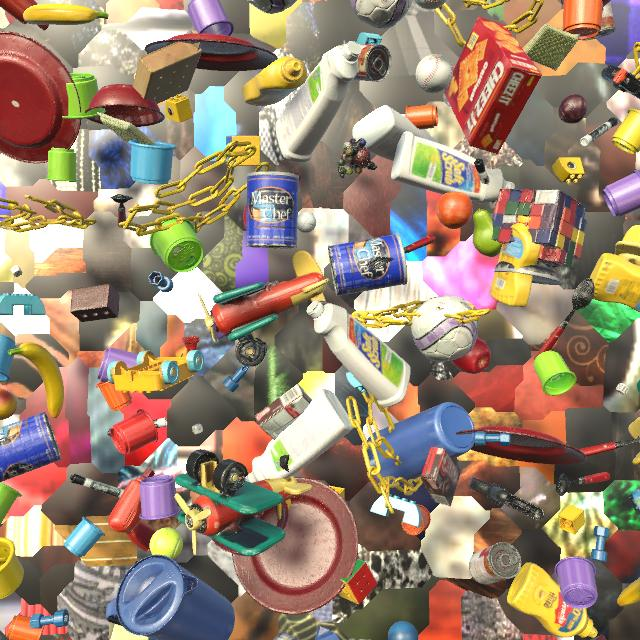ycb_002_master_chef_can: (328, 233, 408, 296), (0, 412, 62, 482), (246, 171, 299, 248)
ycb_003_cracker_box: (444, 17, 542, 154)
ycb_005_tomato_soup_can: (469, 542, 521, 584), (341, 44, 392, 82), (583, 1, 616, 41)
ycb_006_mustard_bottle: (507, 562, 598, 638), (490, 215, 541, 307), (242, 56, 308, 106), (589, 253, 640, 312)
ycb_007_tuna_fish_can: (274, 631, 297, 640)
ycb_008_pudding_box: (255, 384, 313, 440), (420, 447, 462, 507)
ycb_011_banana: (8, 342, 64, 418), (23, 4, 108, 25), (617, 577, 640, 606)
ycb_013_apple: (451, 337, 491, 374), (243, 203, 247, 229)
ycb_015_peach: (0, 389, 17, 420)
ycb_016_pear: (472, 209, 502, 257)
ycb_017_orange: (436, 192, 473, 229)
ycb_018_plum: (558, 94, 587, 124)
